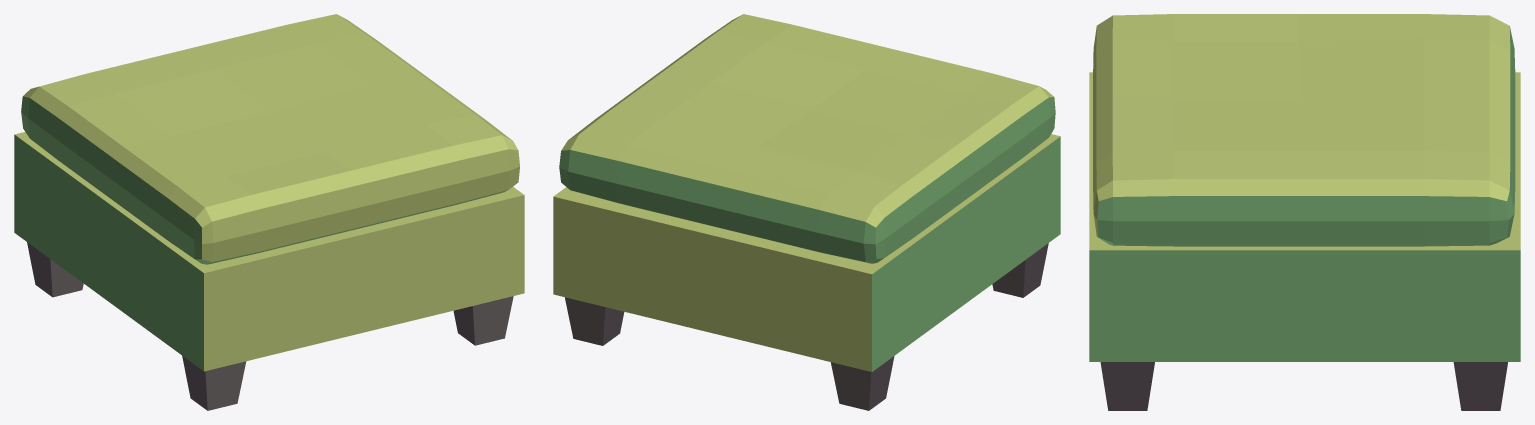
The model's file is Sofa V2 Ottoman.fbx.
3 views of the same model, side by side, from view 1: azimuth 30°, elevation 25°; view 2: azimuth 150°, elevation 25°; view 3: azimuth 270°, elevation 25° (orthographic). The views are drawn at different scales.
Visible parts, largest first — view 1: Sofa V2 Ottoman; view 2: Sofa V2 Ottoman; view 3: Sofa V2 Ottoman.
Boxes of the visible parts, box(x1,y1,x2,y2) form: Sofa V2 Ottoman: box(14, 14, 524, 410); Sofa V2 Ottoman: box(553, 14, 1060, 410); Sofa V2 Ottoman: box(1089, 14, 1520, 410).
Bounding box in the file's own units: 170 × 103 × 173.
